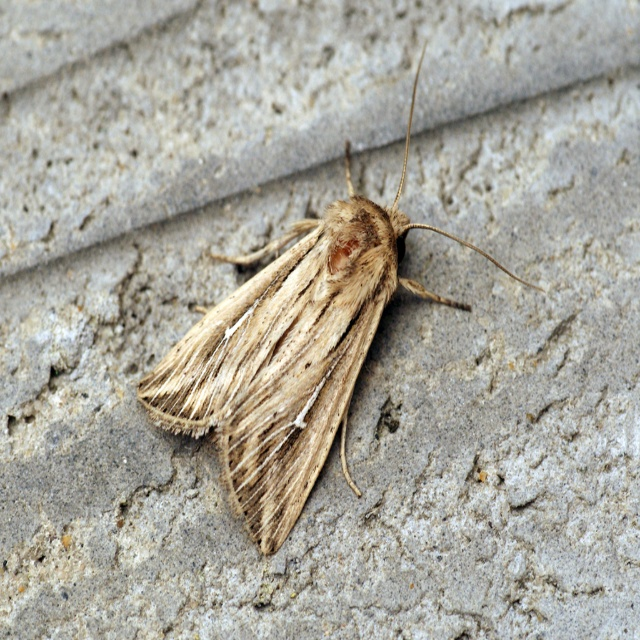Moths and butterflies: (132, 36, 551, 558)
